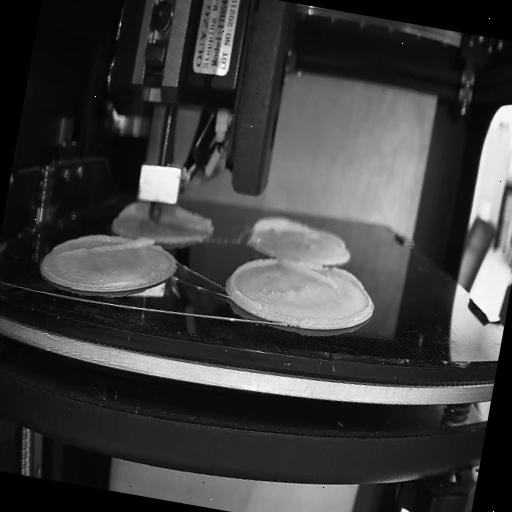over_extrusion: (58, 223, 156, 271), (276, 257, 368, 295), (224, 250, 278, 310), (246, 210, 312, 252), (160, 202, 214, 228), (120, 197, 150, 221), (318, 228, 348, 248)
